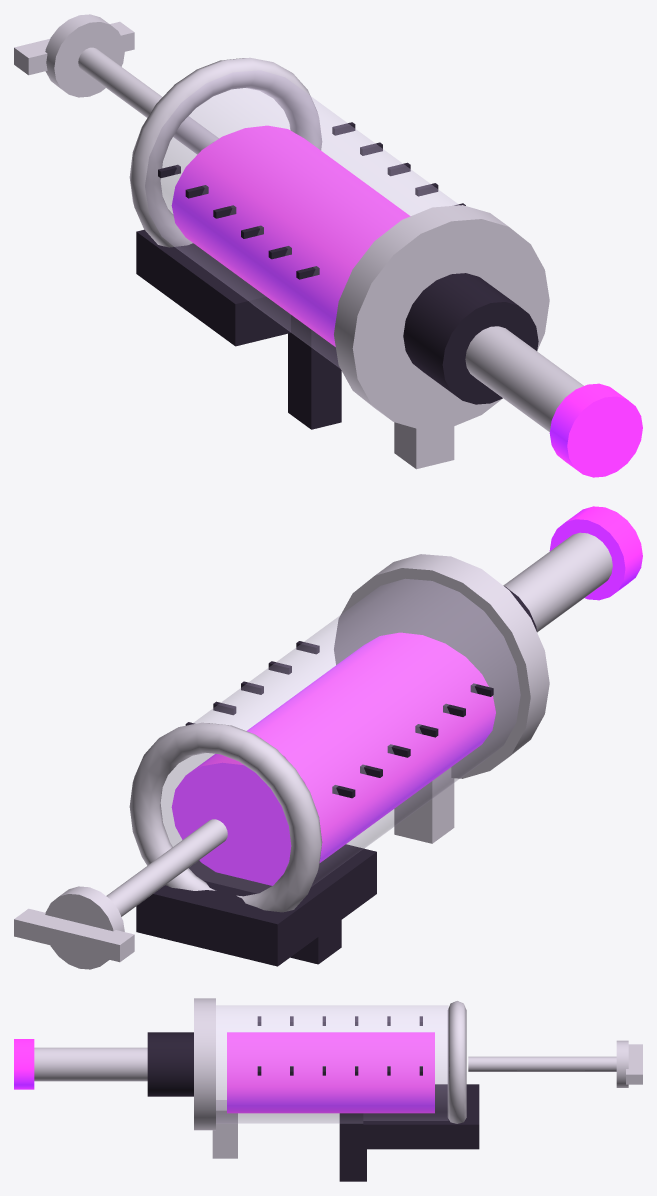
Rendered from weapons.glb.
3 views of the same model, one above another, from view 1: azimuth 30°, elevation 25°; view 2: azimuth 150°, elevation 25°; view 3: azimuth 270°, elevation 25° (orthographic). The views are drawn at different scales.
Parts seen in each view (by area): view 1: node-17c9a11b4406d51e, Purple reservoir, node-bc5fa0054e5dc9ec, node-396056c8fe144e06, node-8e8398e438640399, node-6639911377d25193, node-822017305fac2fd9, node-9861af99408ebb66, node-38a49302b5ceaf52, node-a4eb3f54b62c43d5, node-ef5cd1f314712903, node-b3cc296e0878b2b3 (+1 smaller); view 2: node-17c9a11b4406d51e, Purple reservoir, node-bc5fa0054e5dc9ec, node-6639911377d25193, node-396056c8fe144e06, node-9861af99408ebb66, node-822017305fac2fd9, node-ef5cd1f314712903, node-d838a133523304c7, node-b3cc296e0878b2b3, node-a4eb3f54b62c43d5, node-38a49302b5ceaf52; view 3: node-17c9a11b4406d51e, Purple reservoir, node-6639911377d25193, node-9861af99408ebb66, node-8e8398e438640399, node-bc5fa0054e5dc9ec, node-ef5cd1f314712903, node-396056c8fe144e06, node-38a49302b5ceaf52, node-b3cc296e0878b2b3, node-822017305fac2fd9, node-d838a133523304c7 (+1 smaller).
Boxes of the visible parts, x1,y1,x2,y2 form: node-17c9a11b4406d51e: (145,70,458,367); Purple reservoir: (171,125,410,346); node-bc5fa0054e5dc9ec: (334,205,549,429); node-396056c8fe144e06: (129,57,322,247); node-8e8398e438640399: (403,273,538,404); node-6639911377d25193: (136,229,290,346); node-822017305fac2fd9: (549,383,642,477); node-9861af99408ebb66: (465,326,583,432); node-38a49302b5ceaf52: (288,315,341,429); node-a4eb3f54b62c43d5: (45,14,124,97); node-ef5cd1f314712903: (78,47,218,154); node-b3cc296e0878b2b3: (394,422,454,469); node-17c9a11b4406d51e: (161,579,520,893); Purple reservoir: (171,632,495,885); node-bc5fa0054e5dc9ec: (334,554,549,778); node-6639911377d25193: (136,844,376,966); node-396056c8fe144e06: (129,722,322,912); node-9861af99408ebb66: (503,532,612,632); node-822017305fac2fd9: (549,506,642,600); node-ef5cd1f314712903: (106,819,227,916); node-d838a133523304c7: (14,908,134,962); node-b3cc296e0878b2b3: (394,767,454,843); node-a4eb3f54b62c43d5: (45,886,124,969); node-38a49302b5ceaf52: (290,920,341,964); node-17c9a11b4406d51e: (216,1005,448,1123); Purple reservoir: (227,1032,434,1113); node-6639911377d25193: (363,1084,479,1149); node-9861af99408ebb66: (34,1047,147,1081); node-8e8398e438640399: (147,1032,193,1096); node-bc5fa0054e5dc9ec: (194,998,215,1130); node-ef5cd1f314712903: (468,1056,616,1071); node-396056c8fe144e06: (447,1001,466,1123); node-38a49302b5ceaf52: (339,1113,366,1181); node-b3cc296e0878b2b3: (212,1100,237,1158); node-822017305fac2fd9: (14,1039,34,1089); node-d838a133523304c7: (626,1044,642,1084).
Size of the model in its own units: 0.78 by 1.12 by 3.69.
